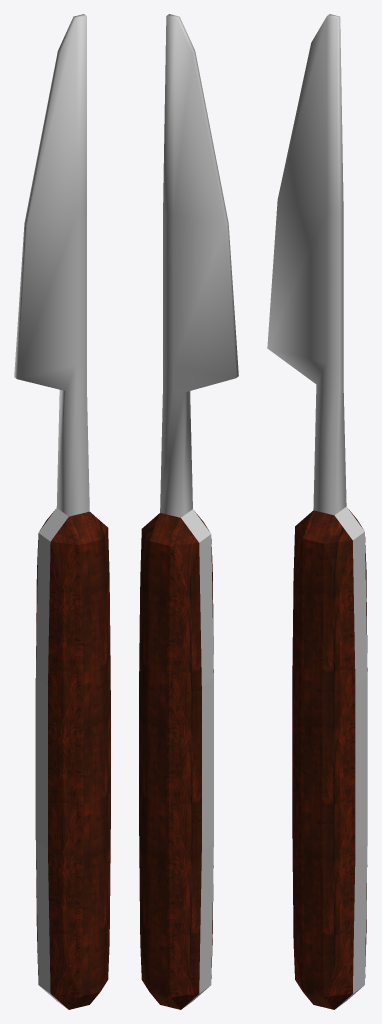
File: knife.fbx
3 views of the same model, side by side, from view 1: azimuth 30°, elevation 25°; view 2: azimuth 150°, elevation 25°; view 3: azimuth 330°, elevation 25° (orthographic).
Visible parts, largest first — view 1: Cube; view 2: Cube; view 3: Cube.
Boxes of the visible parts, x1,y1,x2,y2 form: Cube: (14,14,110,1009); Cube: (139,14,238,1009); Cube: (267,14,367,1009).
Size of the model in its own units: 0.0289 by 0.3 by 0.02.
